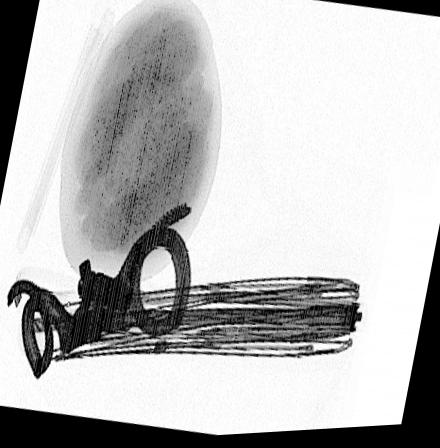HandCuffs: (4, 204, 193, 382)
